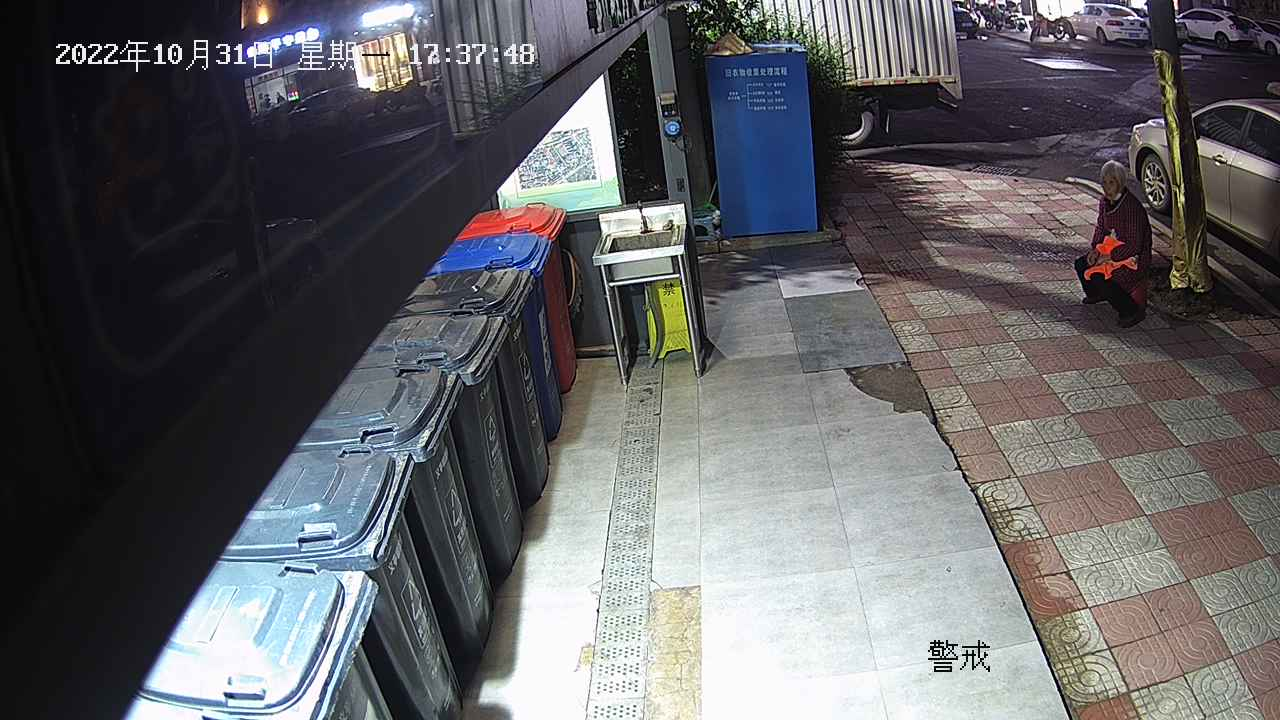worker: (1073, 160, 1154, 330)
